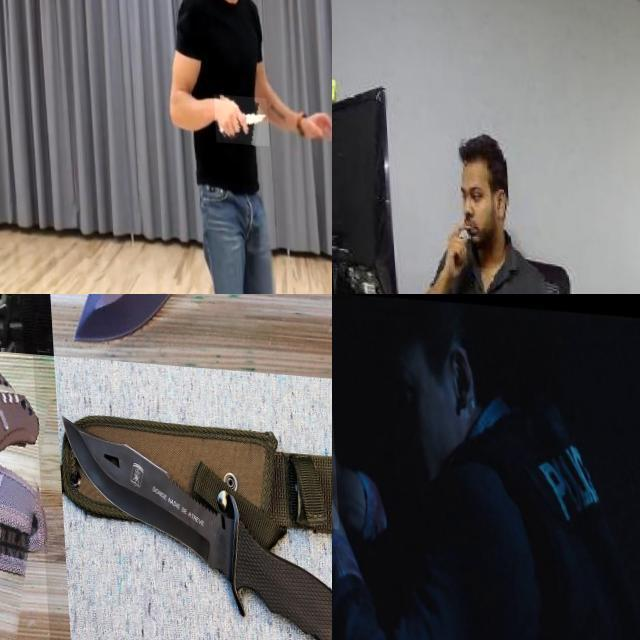-: (57, 400, 332, 640), (0, 332, 153, 640), (52, 294, 332, 449), (210, 90, 264, 141)
gun-knife-thesis - v11 Yolov5 augmented: (332, 383, 386, 525)
